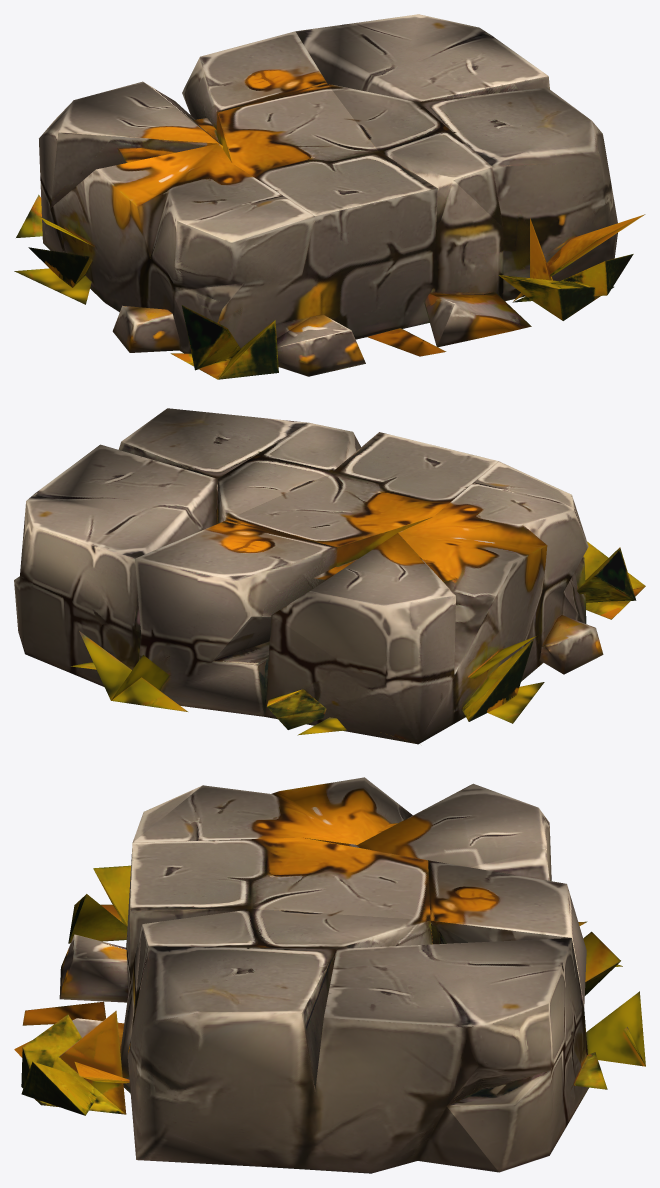
File: Stone_terrace.fbx
3 views of the same model, one above another, from view 1: azimuth 30°, elevation 25°; view 2: azimuth 150°, elevation 25°; view 3: azimuth 270°, elevation 25° (orthographic). The views are drawn at different scales.
Visible parts, largest first — view 1: mesh_node; view 2: mesh_node; view 3: mesh_node.
Part boxes in pixels (bbox=[...]): mesh_node: bbox=[14, 14, 645, 379]; mesh_node: bbox=[14, 408, 645, 744]; mesh_node: bbox=[14, 777, 645, 1173].
Bounding box in the file's own units: 0.371 × 0.1 × 0.371.
Materials: 1 (1 with a texture image).
